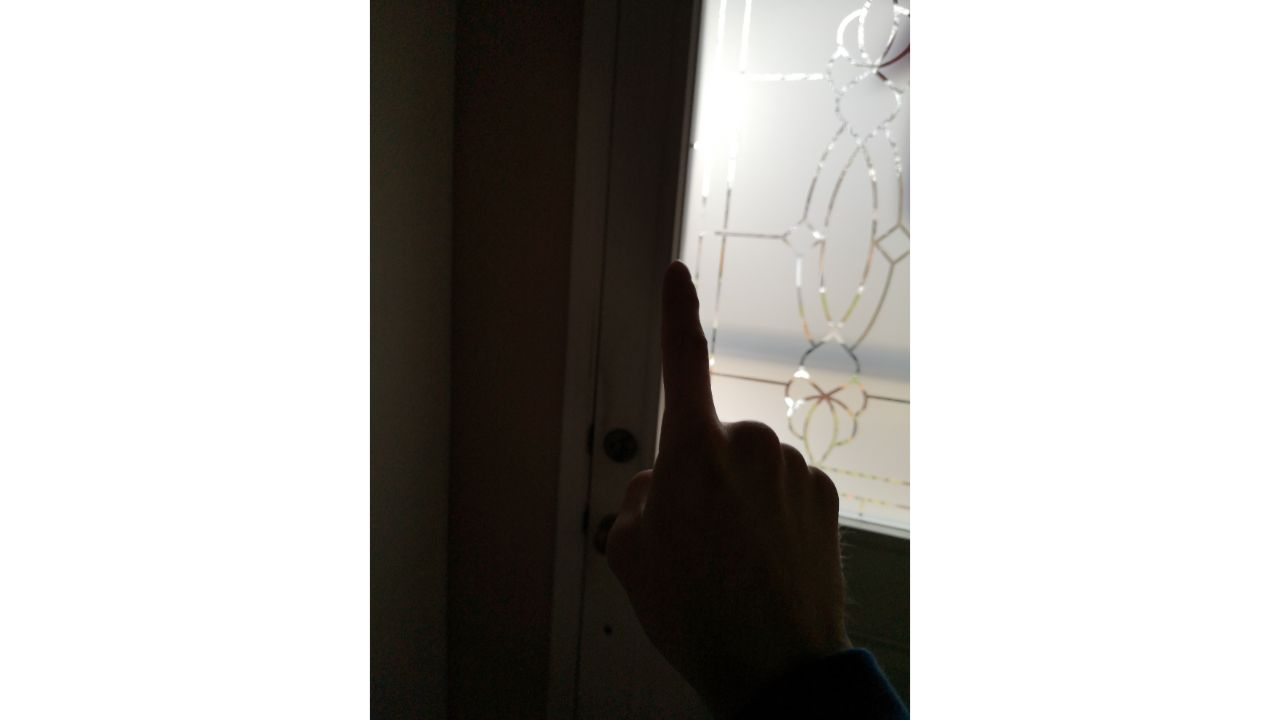finger: (601, 259, 861, 650)
